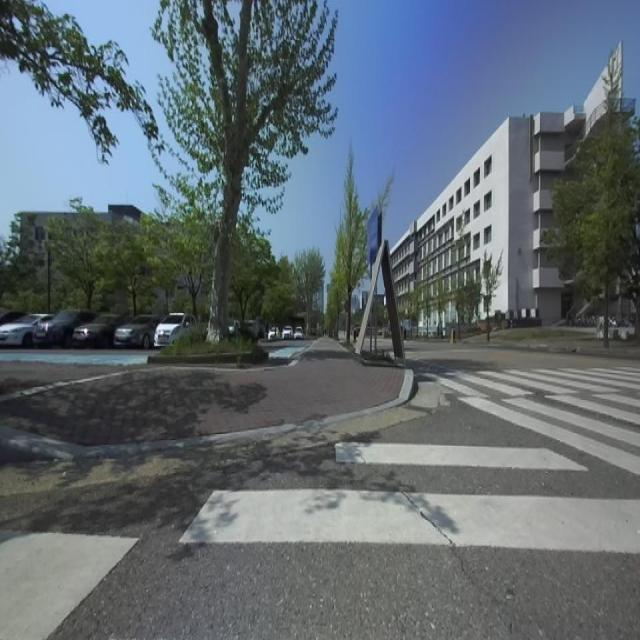sidewalk: (0, 339, 404, 445)
